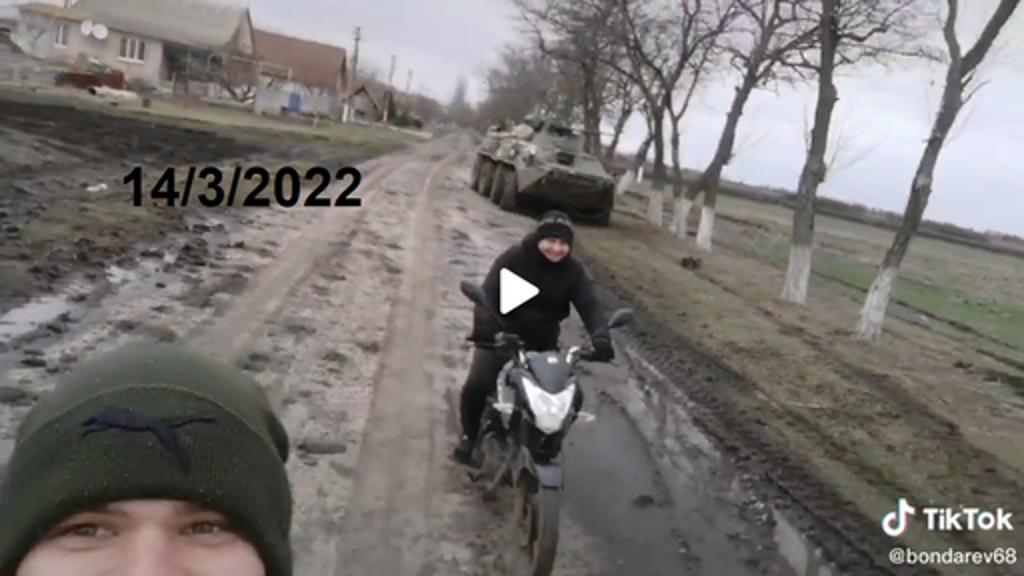APC-IFV: (462, 96, 620, 228)
